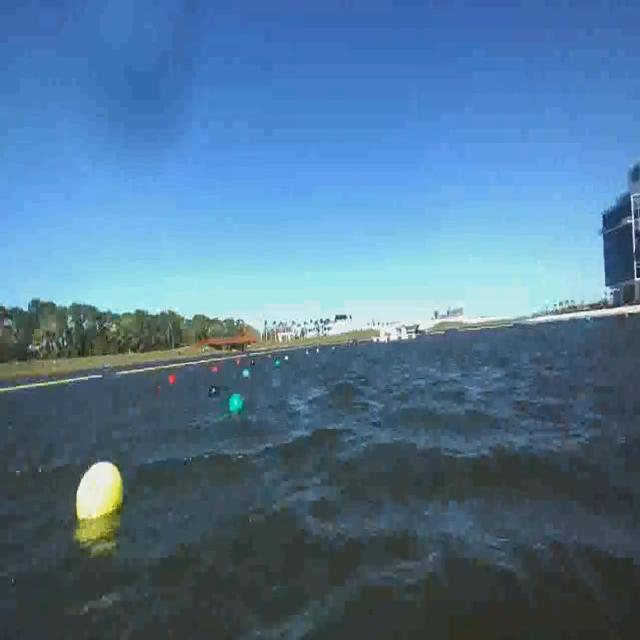black-buoy: (208, 386, 220, 397)
green-buoy: (228, 396, 242, 415), (275, 360, 281, 367)
red-buoy: (169, 376, 177, 384)
yellow-buoy: (76, 462, 125, 523)
